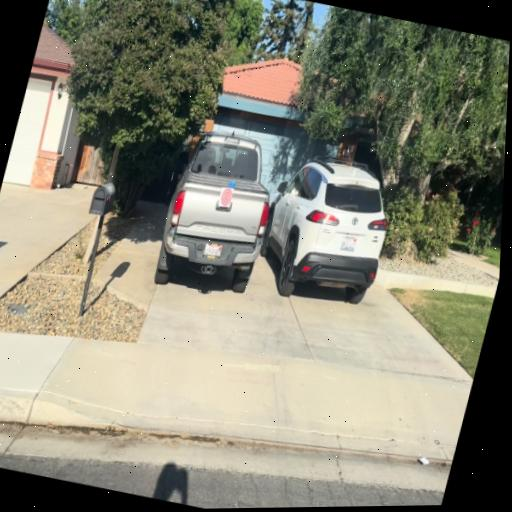bullseye: (218, 187, 233, 207)
